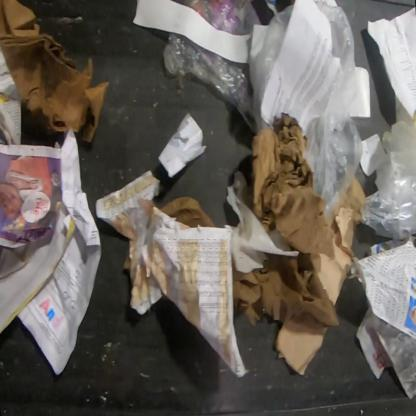cardboard: (0, 0, 110, 145), (251, 113, 324, 256), (310, 175, 368, 306), (274, 321, 328, 377)
soft_plastic: (312, 1, 364, 223), (162, 32, 256, 134), (360, 110, 415, 240), (254, 2, 294, 130), (172, 0, 250, 35)
